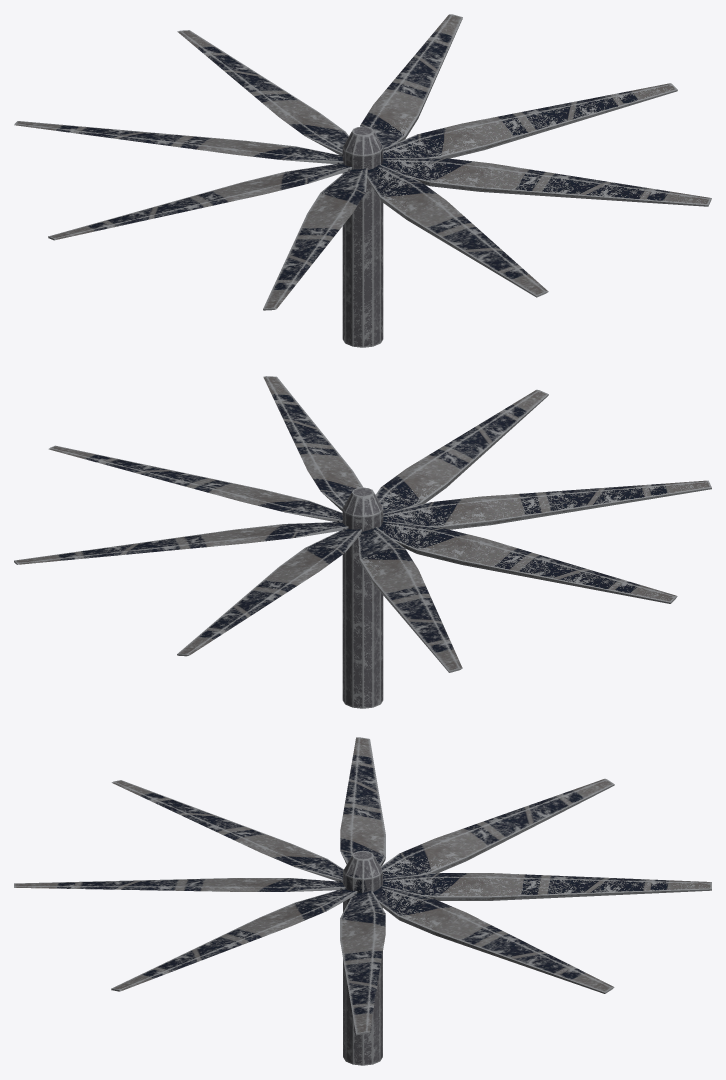
File: propeller_m_2.fbx
The picture shows the model from 3 angles, top to bottom: view 1: azimuth 30°, elevation 25°; view 2: azimuth 150°, elevation 25°; view 3: azimuth 270°, elevation 25°; orthographic projection. The views are drawn at different scales.
Parts seen in each view (by area): view 1: propeller_m_2; view 2: propeller_m_2; view 3: propeller_m_2.
Part boxes in pixels (x1,y1,x2,y2): propeller_m_2: (14, 14, 711, 347); propeller_m_2: (14, 376, 711, 708); propeller_m_2: (14, 737, 711, 1065).
Size of the model in its own units: 19.34 by 6.18 by 19.34.
